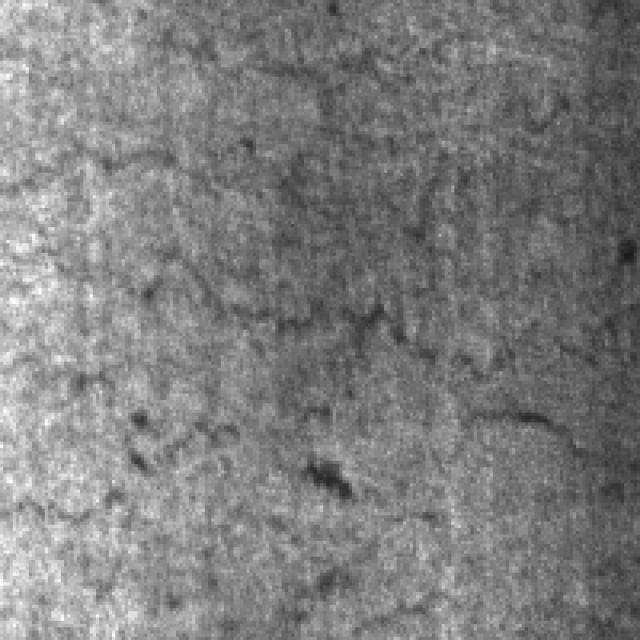crazing: (41, 90, 572, 428), (48, 438, 461, 628), (445, 282, 640, 480)
